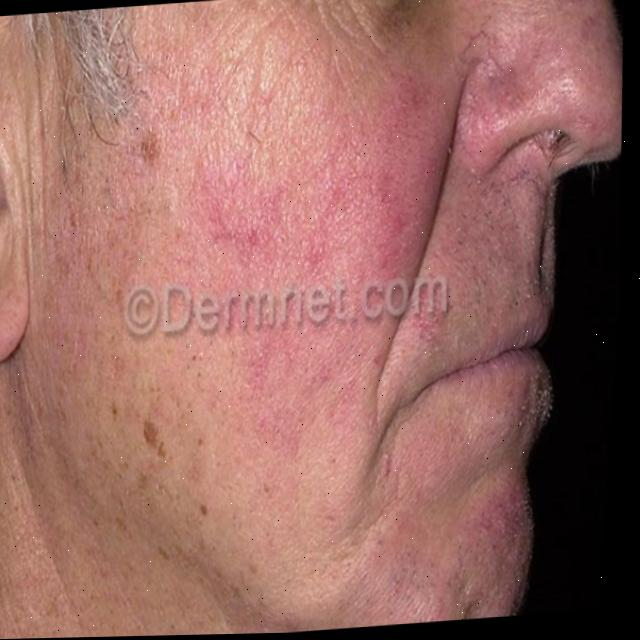Rosacea: (152, 75, 435, 386)
